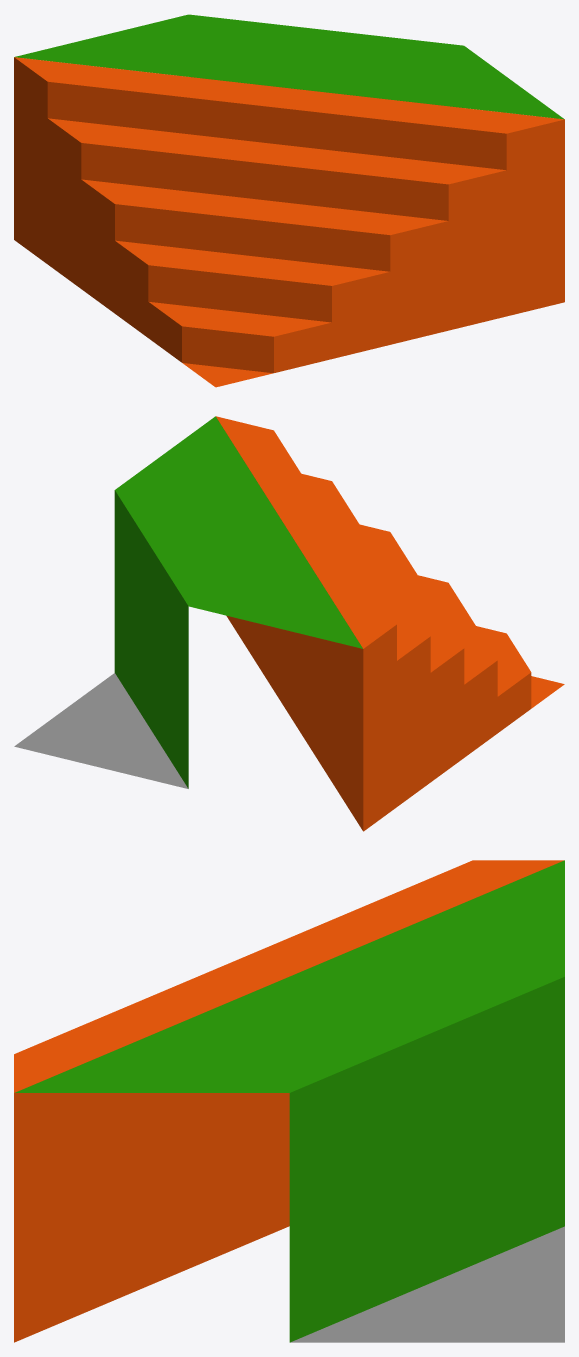
The picture shows the model from 3 angles, top to bottom: view 1: azimuth 30°, elevation 25°; view 2: azimuth 150°, elevation 25°; view 3: azimuth 270°, elevation 25°; orthographic projection. The views are drawn at different scales.
Visible parts, largest first — view 1: T_a_3_0; view 2: T_a_3_0; view 3: T_a_3_0.
Part boxes in pixels (x1,y1,x2,y2): T_a_3_0: (14, 14, 564, 387); T_a_3_0: (14, 416, 564, 831); T_a_3_0: (14, 860, 564, 1342).
Bounding box in the file's own units: 99.81 × 49.91 × 99.81.
